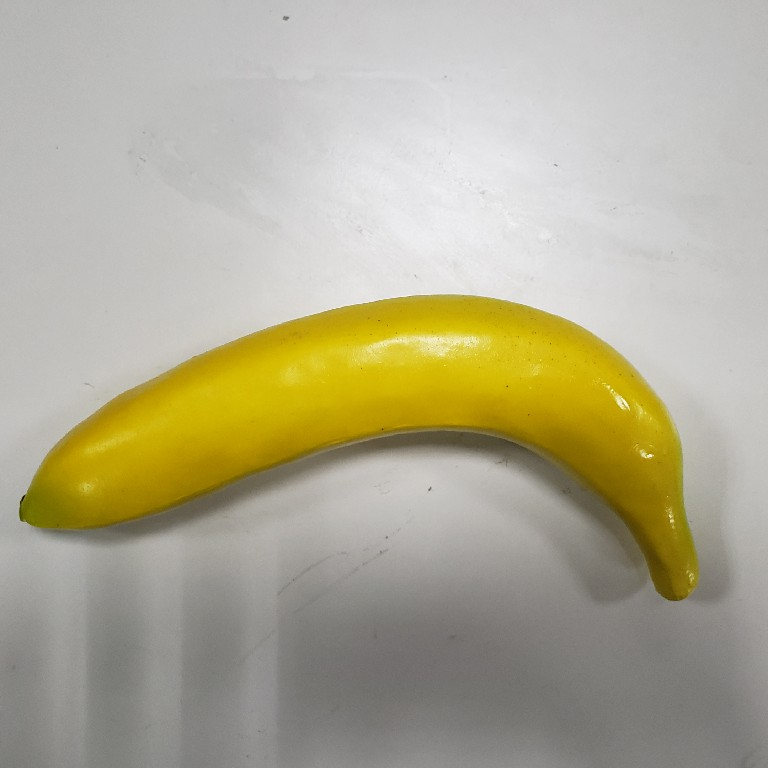fruit_banana: (12, 291, 707, 611)
